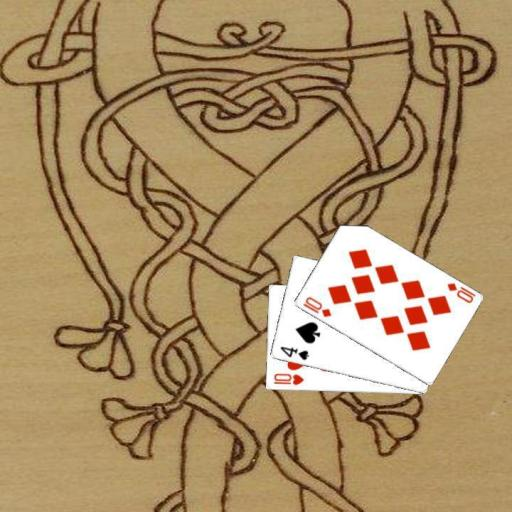card-corner: (299, 294, 333, 318), (444, 280, 477, 304), (277, 343, 310, 362), (270, 370, 305, 387)
